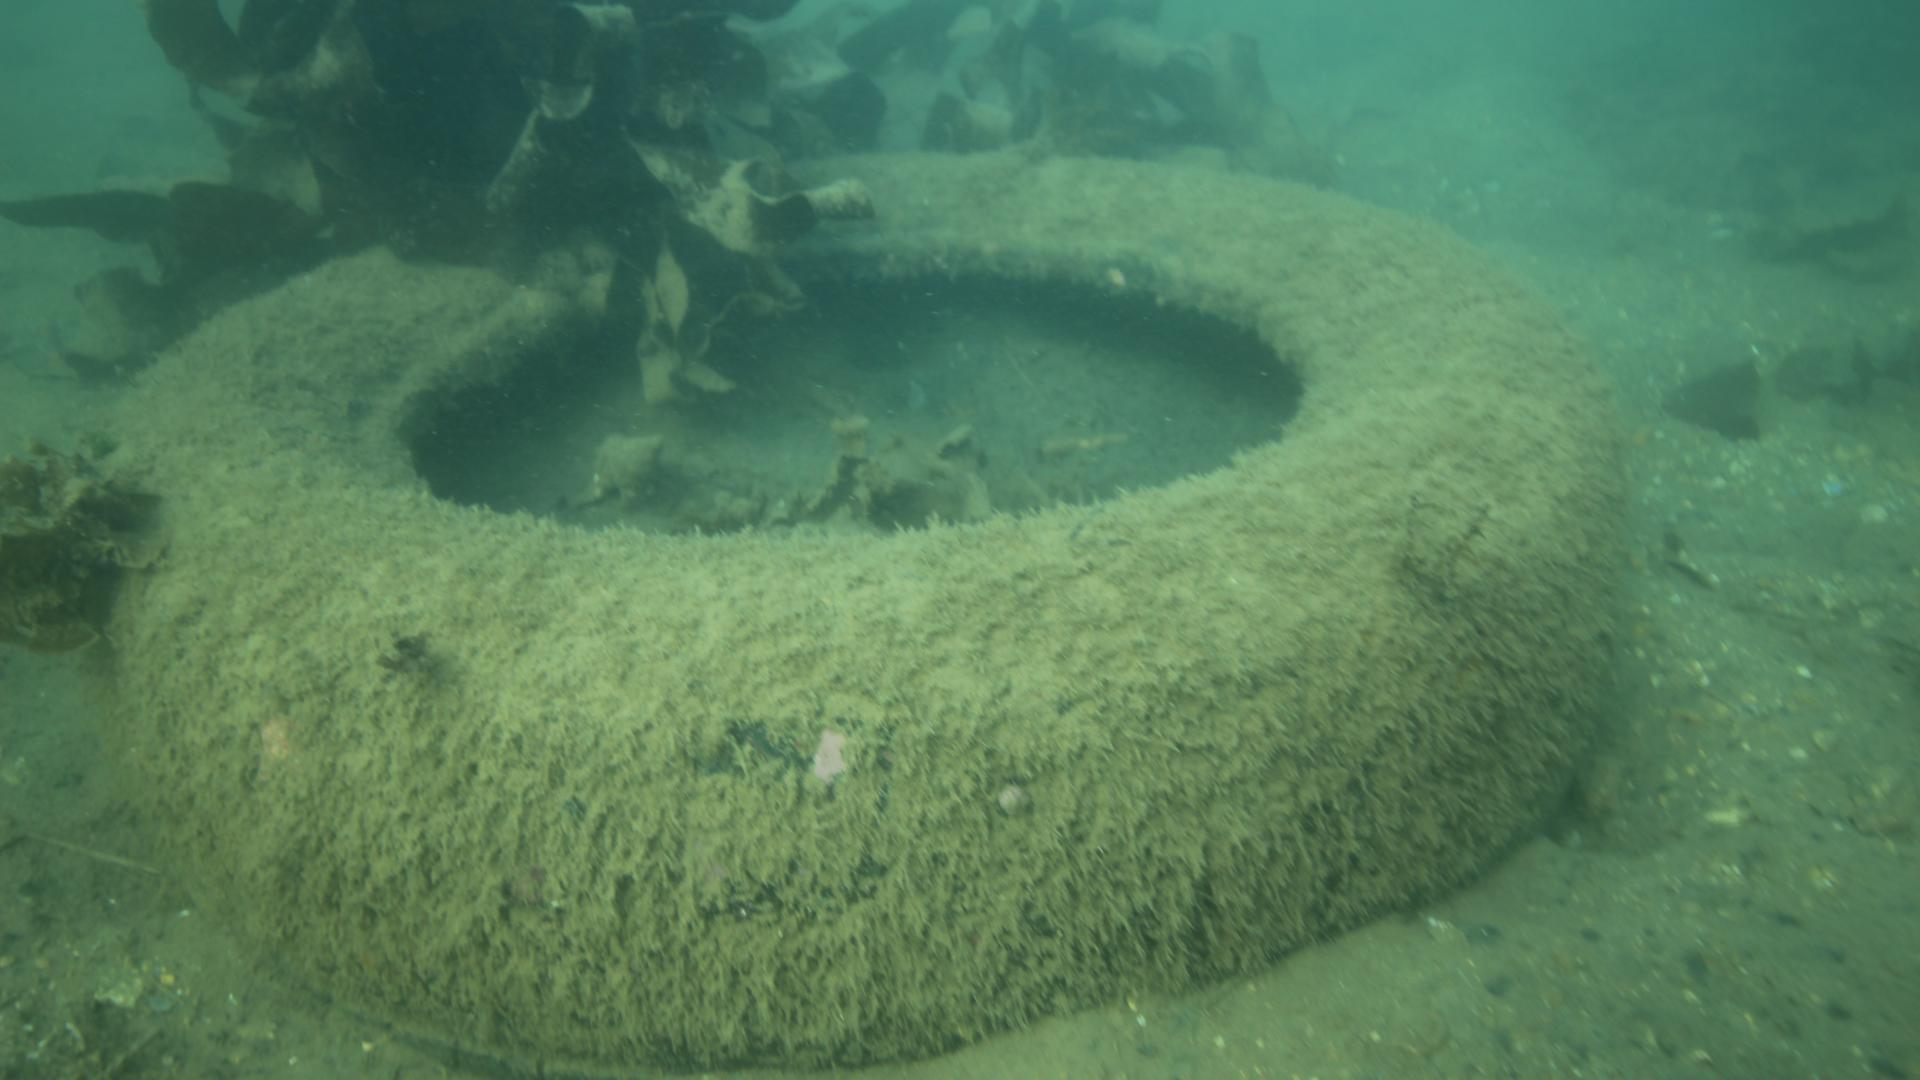tire: (79, 152, 1630, 1069)
